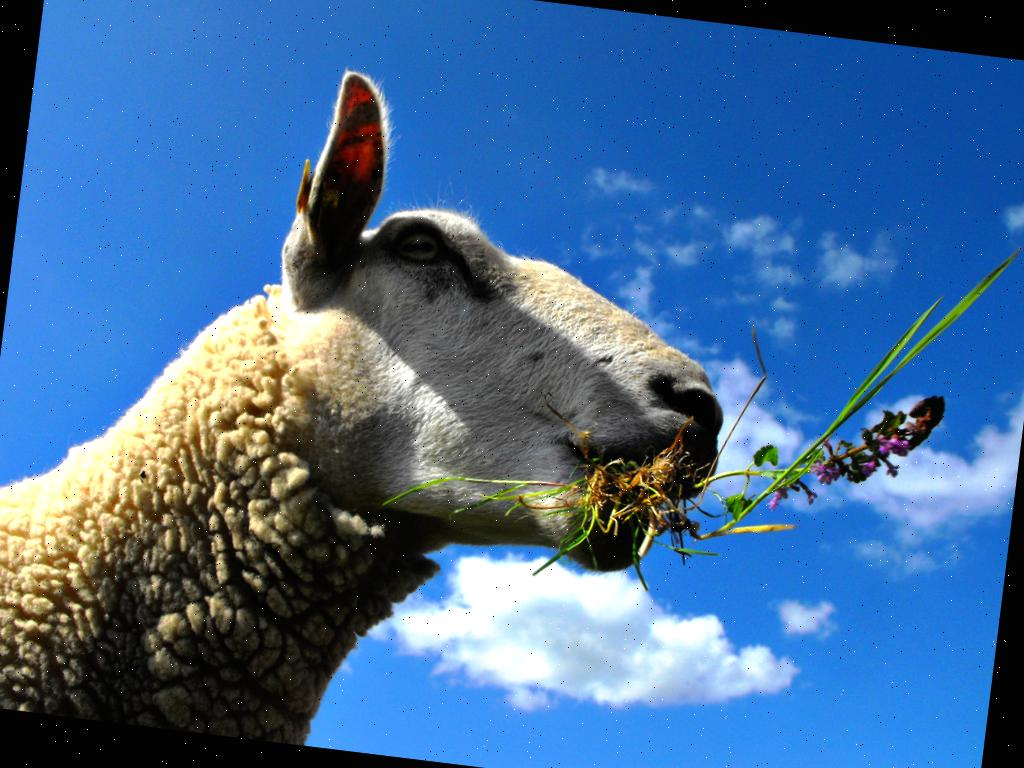Sheep: (4, 37, 762, 760)
